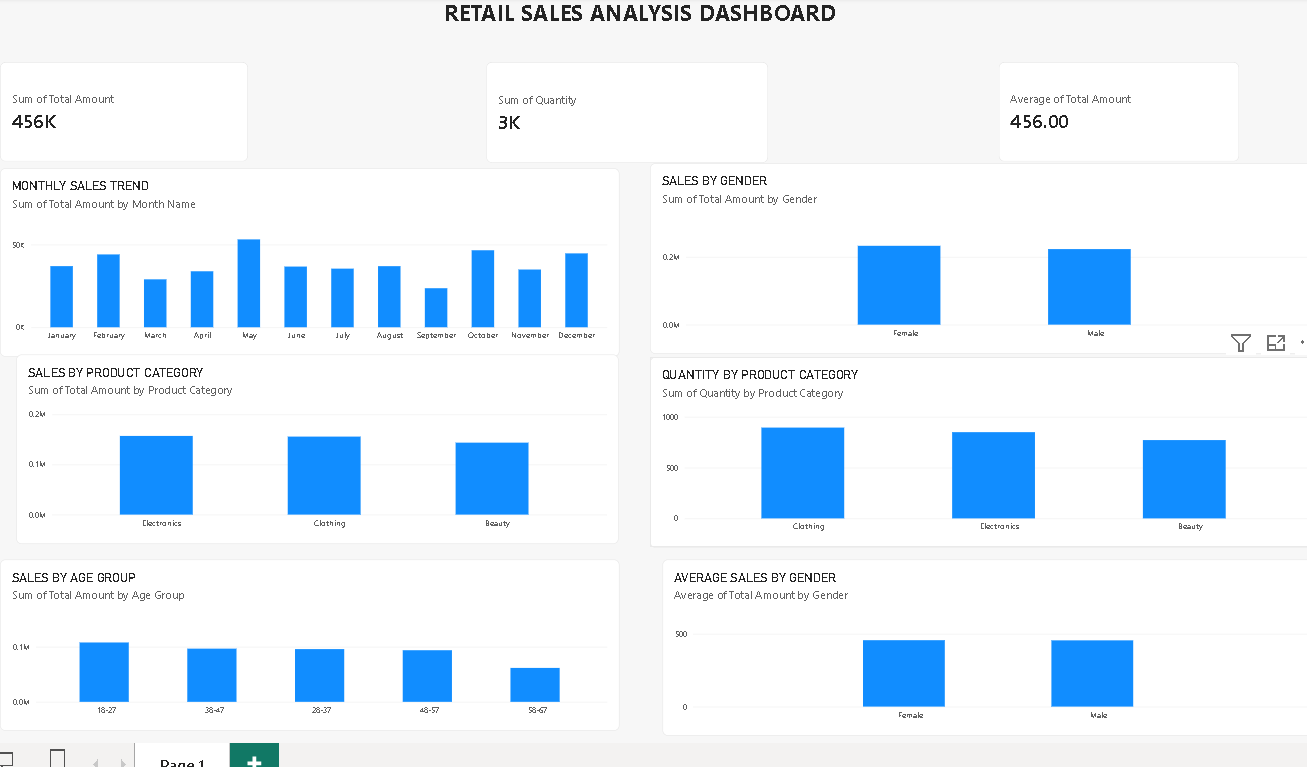

The page's visual inventory and layout, read from the dashboard file:
{"tool":"powerbi","page":{"name":"Page 1","canvas":[1920,1080],"ordinal":0},"visuals":[{"type":"clusteredColumnChart","title":"MONTHLY SALES TREND","fields":{"Category":["retail_sales_cleaned.Month Name"],"Y":["Sum(retail_sales_cleaned.Total Amount)"]},"box":[0,248.3,896.6,272.4],"z":0},{"type":"clusteredColumnChart","title":"SALES BY GENDER","fields":{"Category":["retail_sales_cleaned.Gender"],"Y":["Sum(retail_sales_cleaned.Total Amount)"]},"box":[941.4,241.4,979.3,275.9],"z":1},{"type":"clusteredColumnChart","title":"QUANTITY BY PRODUCT CATEGORY","fields":{"Category":["retail_sales_cleaned.Product Category"],"Y":["Sum(retail_sales_cleaned.Quantity)"]},"box":[941.4,520.7,979.3,275.9],"z":2},{"type":"clusteredColumnChart","title":"AVERAGE SALES BY GENDER","fields":{"Category":["retail_sales_cleaned.Gender"],"Y":["Avg(retail_sales_cleaned.Total Amount)"]},"box":[958.6,813.8,962.1,255.2],"z":3},{"type":"clusteredColumnChart","title":"SALES BY PRODUCT CATEGORY","fields":{"Category":["retail_sales_cleaned.Product Category"],"Y":["Sum(retail_sales_cleaned.Total Amount)"]},"box":[24.1,517.2,872,274],"z":4},{"type":"clusteredColumnChart","title":"SALES BY AGE GROUP","fields":{"Category":["retail_sales_cleaned.Age Group"],"Y":["Sum(retail_sales_cleaned.Total Amount)"]},"box":[0,813.8,896.6,248.3],"z":5},{"type":"textbox","box":[25.5,0,1787.2,204.3],"z":6},{"type":"cardVisual","fields":{"Data":["Sum(retail_sales_cleaned.Total Amount)"]},"box":[0,93.6,359.6,144.7],"z":7},{"type":"cardVisual","fields":{"Data":["Sum(retail_sales_cleaned.Quantity)"]},"box":[704.3,93.6,408.5,146.8],"z":8},{"type":"cardVisual","fields":{"Data":["Avg(retail_sales_cleaned.Total Amount)"]},"box":[1446.8,93.6,348.9,144.7],"z":9}]}

Visuals, with their boxes on the page's 1920x1080 design canvas (x1, y1, x2, y2). These are canvas units, not pixel positions in the 1307x767 screenshot, which may show the page scaled, cropped or inside an application window:
"MONTHLY SALES TREND" clusteredColumnChart: 0:248:897:521
"SALES BY GENDER" clusteredColumnChart: 941:241:1921:517
"QUANTITY BY PRODUCT CATEGORY" clusteredColumnChart: 941:521:1921:797
"AVERAGE SALES BY GENDER" clusteredColumnChart: 959:814:1921:1069
"SALES BY PRODUCT CATEGORY" clusteredColumnChart: 24:517:896:791
"SALES BY AGE GROUP" clusteredColumnChart: 0:814:897:1062
textbox: 26:0:1813:204
cardVisual - Sum(retail_sales_cleaned.Total Amount): 0:94:360:238
cardVisual - Sum(retail_sales_cleaned.Quantity): 704:94:1113:240
cardVisual - Avg(retail_sales_cleaned.Total Amount): 1447:94:1796:238
